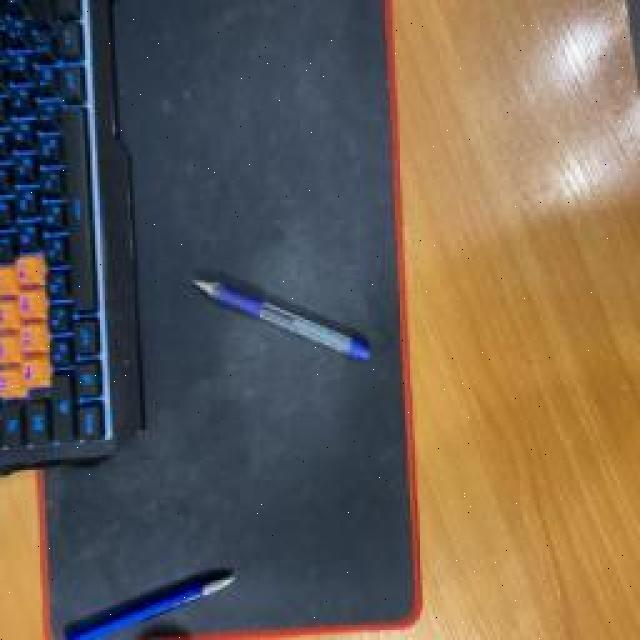pen: (195, 275, 372, 363)
